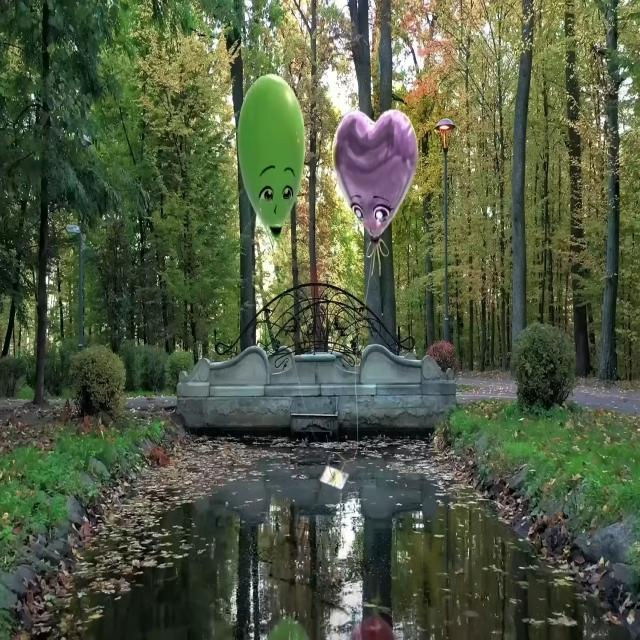balloon: (337, 108, 422, 235), (243, 78, 300, 240)
